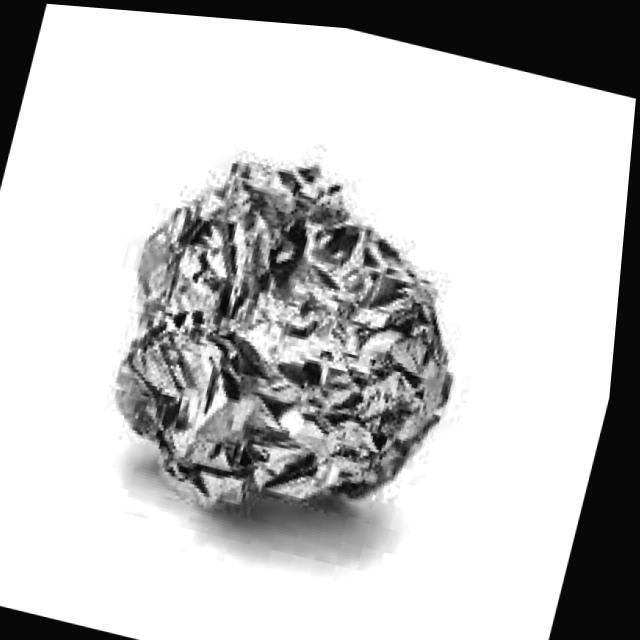Foil: (60, 92, 503, 547)
